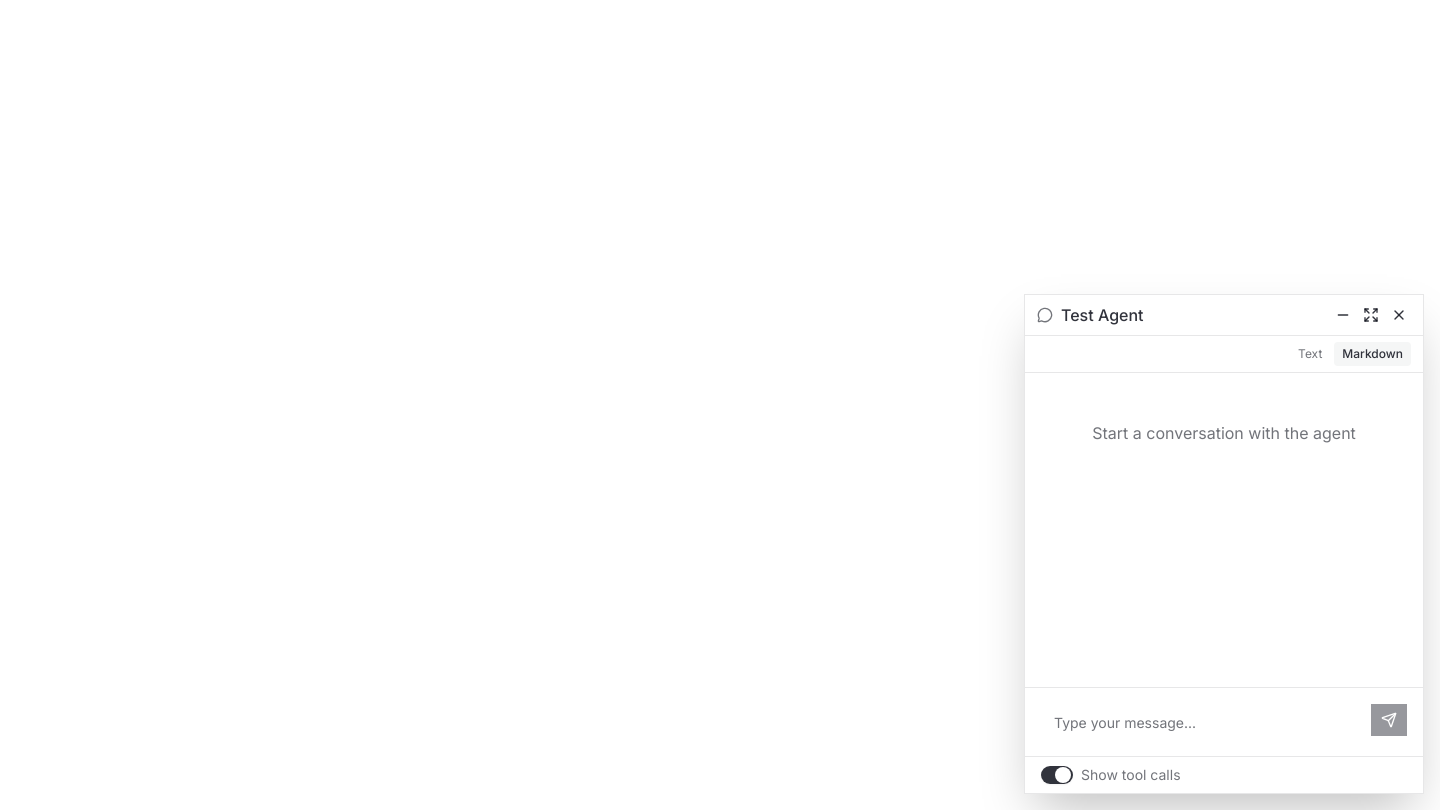
Scenario: FloatingChat › window state management › maximized state › should allow normalizing from maximized state
Click the button named "maximize chat".
click(1371, 315)  # box [1359,303,1383,327]
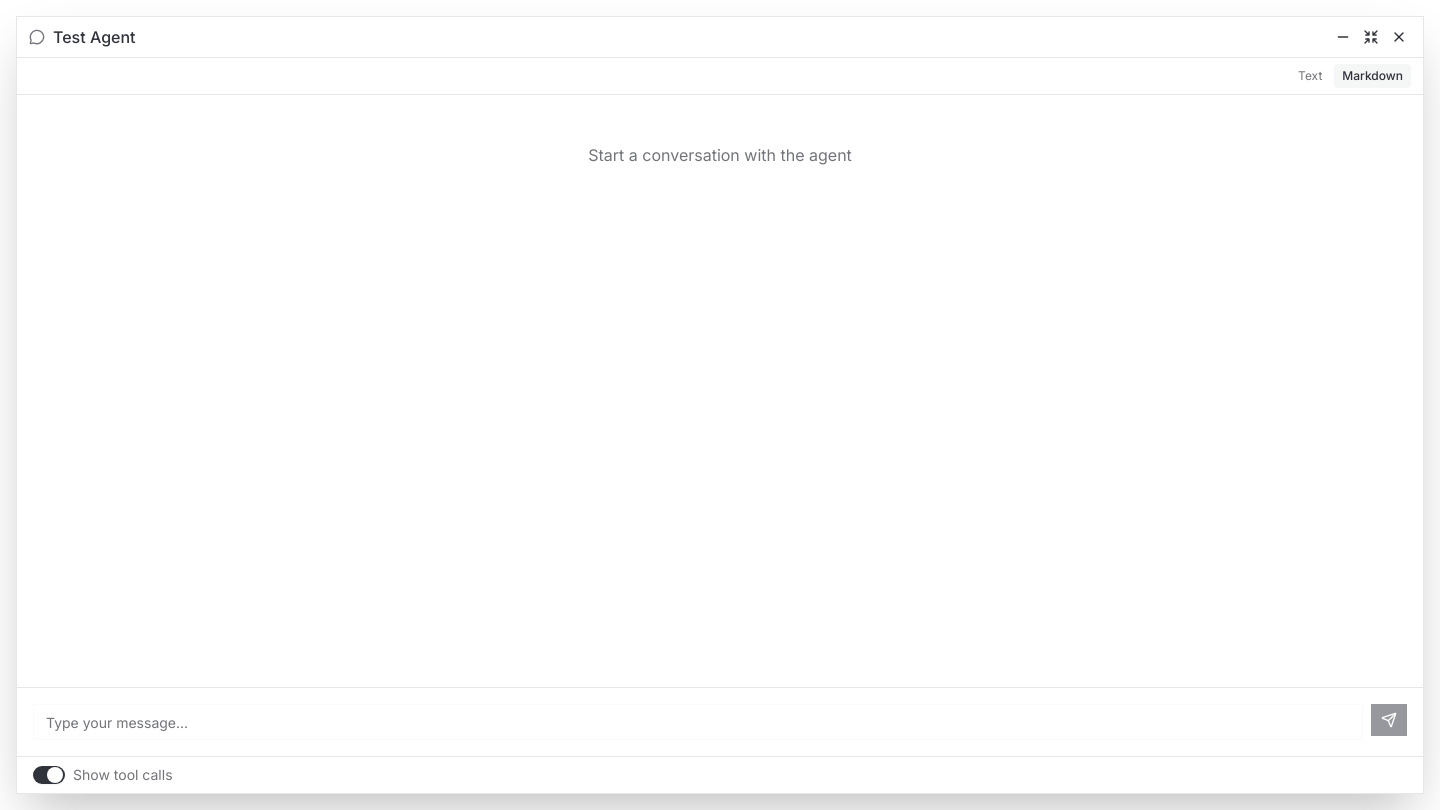
Click the button named "restore size".
click(1371, 37)  # box [1359,25,1383,49]
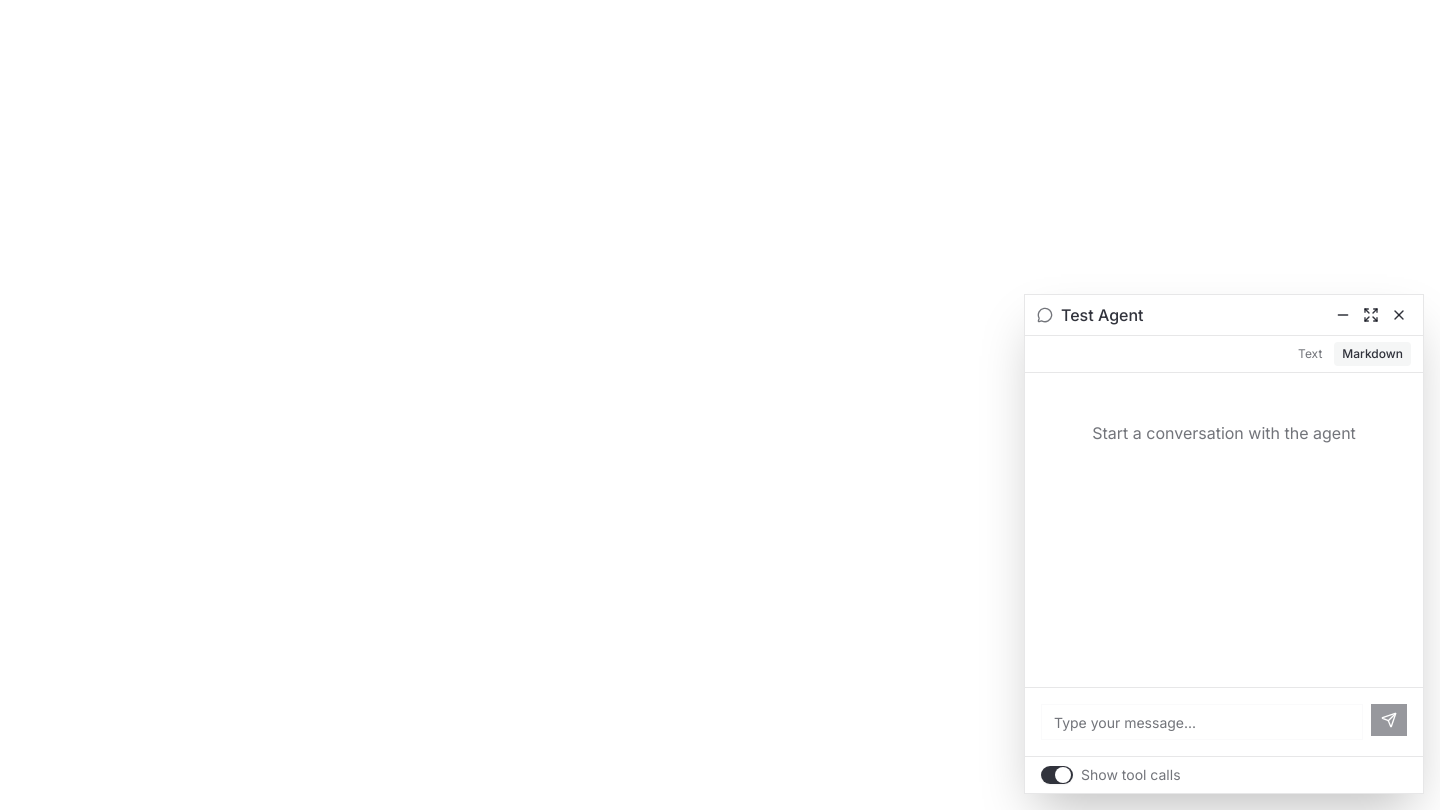
Expected: the button named "maximize chat" is shown, [1359,303,1383,327]
